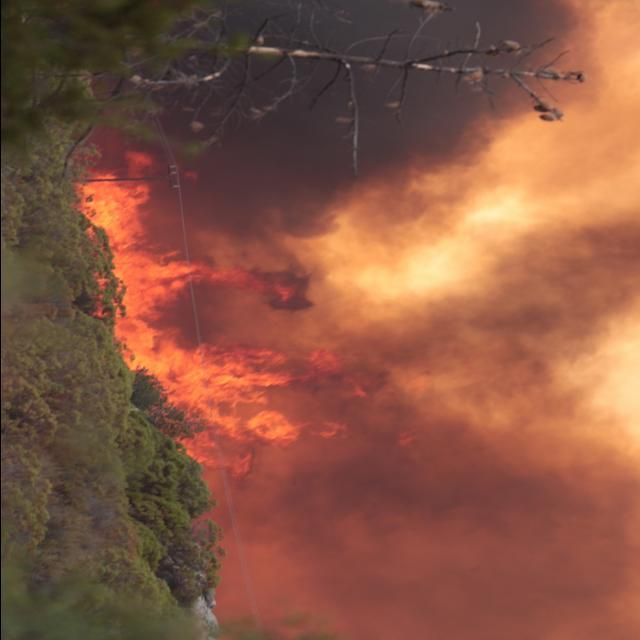Fire: (74, 160, 428, 484)
